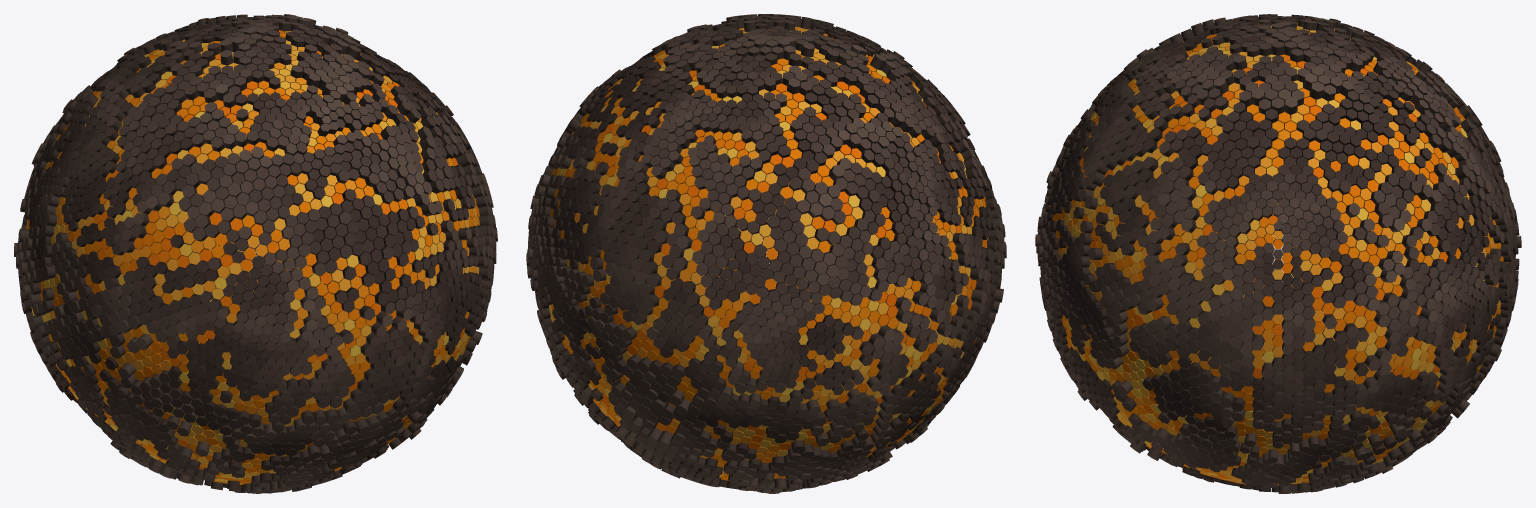
The model's file is lava_0.glb.
3 renders of one model, left to right at view 1: azimuth 30°, elevation 25°; view 2: azimuth 150°, elevation 25°; view 3: azimuth 270°, elevation 25°, orthographic.
Visible parts, largest first — view 1: lava_0; view 2: lava_0; view 3: lava_0.
Part boxes in pixels (x1,y1,x2,y2): lava_0: (14, 14, 497, 493); lava_0: (526, 14, 1006, 493); lava_0: (1035, 14, 1521, 493).
Size of the model in its own units: 2.09 by 2.07 by 2.09.
